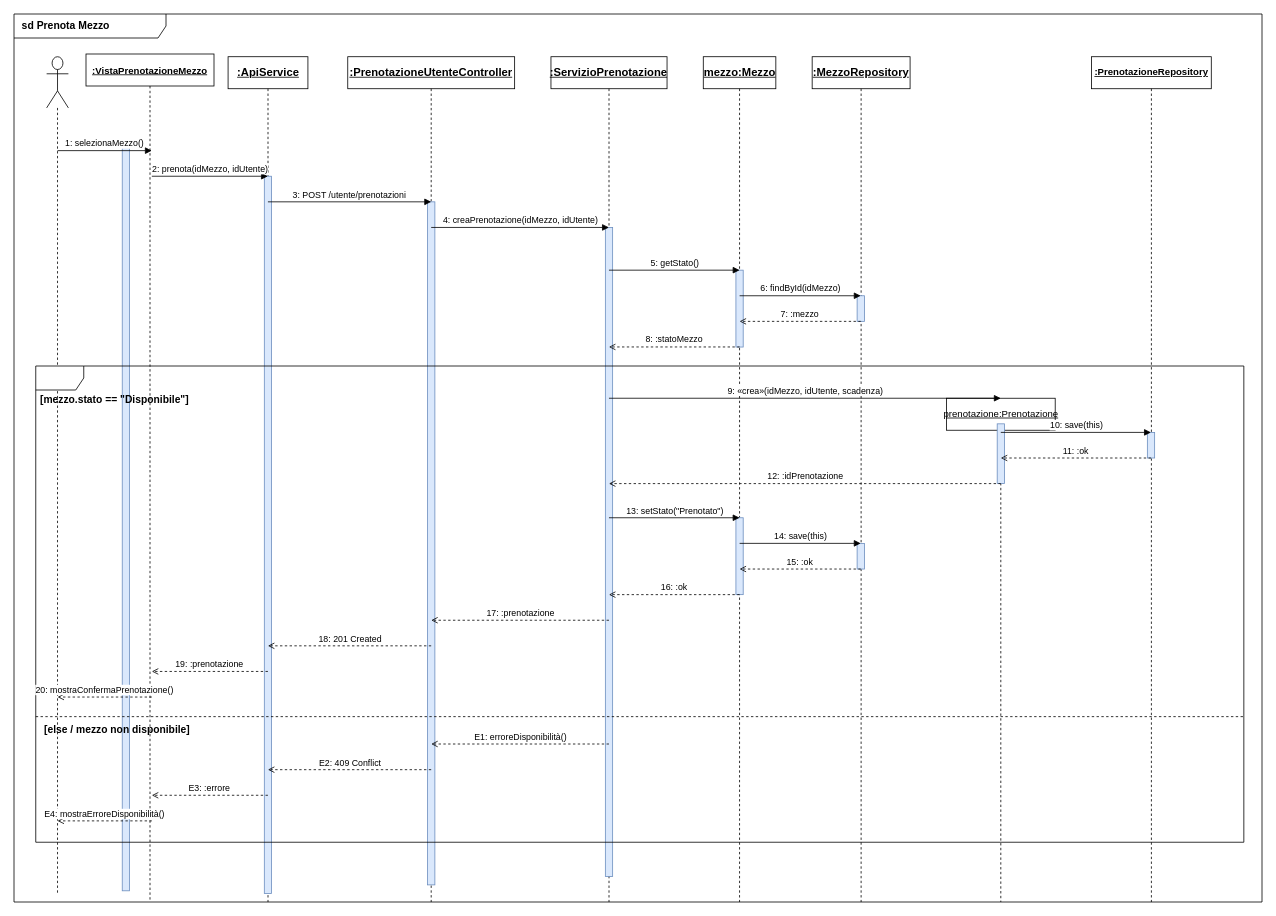
Some shapes in this 1276 by 916 pixel diagram are drawn without their labels. Here are the shapes that lost their labels. From the top down, the box of each, then its label:
(46, 56, 68, 108): :Utente
(35, 365, 1244, 842): alt
